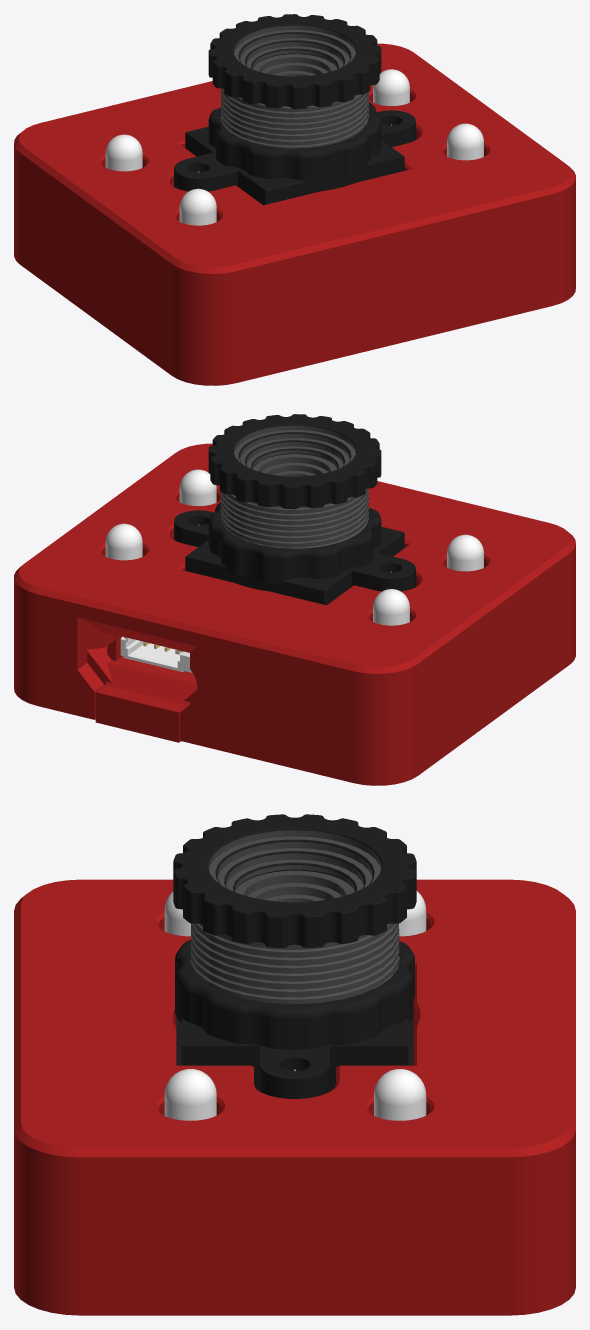
The picture shows the model from 3 angles, top to bottom: view 1: azimuth 30°, elevation 25°; view 2: azimuth 150°, elevation 25°; view 3: azimuth 270°, elevation 25°; orthographic projection. The views are drawn at different scales.
Visible parts, largest first — view 1: Case Upper, COMPOUND001, COMPOUND, LED Bulbs003, LED Bulbs002, LED Bulbs, LED Bulbs001; view 2: Case Upper, COMPOUND001, COMPOUND, Case Lower, Copy of sm04b-srss-tb_lf__sn_^OV9726 Camera module005, LED Bulbs001, LED Bulbs002, LED Bulbs003, LED Bulbs; view 3: Case Upper, COMPOUND001, COMPOUND, LED Bulbs, LED Bulbs001, LED Bulbs003, LED Bulbs002.
Part boxes in pixels (left/top/right/bottom): Case Upper: left=14, top=43, right=575, bottom=385; COMPOUND001: left=174, top=54, right=415, bottom=205; COMPOUND: left=208, top=14, right=381, bottom=109; LED Bulbs003: left=105, top=134, right=142, bottom=171; LED Bulbs002: left=179, top=188, right=216, bottom=225; LED Bulbs: left=447, top=123, right=483, bottom=160; LED Bulbs001: left=373, top=69, right=409, bottom=105; Case Upper: left=14, top=443, right=575, bottom=785; COMPOUND001: left=174, top=454, right=415, bottom=605; COMPOUND: left=208, top=414, right=381, bottom=509; Case Lower: left=87, top=635, right=197, bottom=742; Copy of sm04b-srss-tb_lf__sn_^OV9726 Camera module005: left=120, top=636, right=192, bottom=672; LED Bulbs001: left=105, top=523, right=142, bottom=560; LED Bulbs002: left=447, top=534, right=483, bottom=571; LED Bulbs003: left=373, top=589, right=409, bottom=625; LED Bulbs: left=179, top=469, right=216, bottom=505; Case Upper: left=14, top=879, right=575, bottom=1315; COMPOUND001: left=175, top=870, right=414, bottom=1098; COMPOUND: left=173, top=814, right=416, bottom=948; LED Bulbs: left=164, top=1069, right=216, bottom=1120; LED Bulbs001: left=374, top=1069, right=426, bottom=1120; LED Bulbs003: left=399, top=891, right=426, bottom=936; LED Bulbs002: left=164, top=891, right=190, bottom=936.
Bounding box in the file's own units: 0.0372 × 0.02 × 0.0322.
